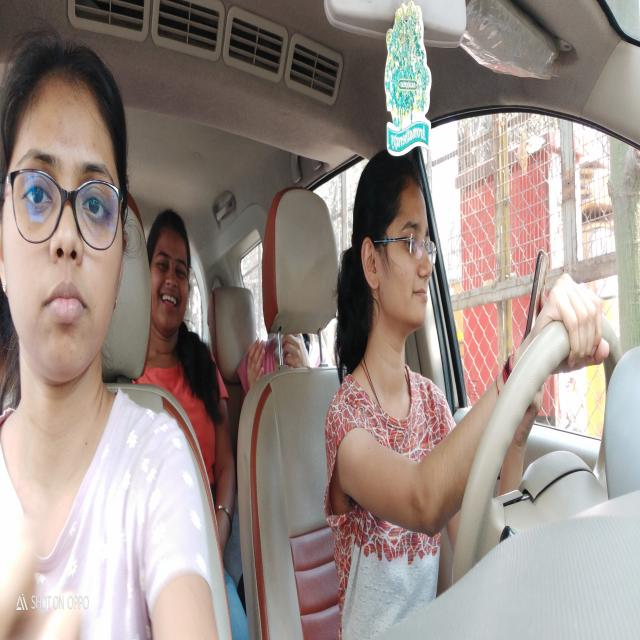mobile: (526, 234, 556, 403)
person: (1, 29, 135, 381), (339, 133, 442, 342), (145, 193, 200, 377)
